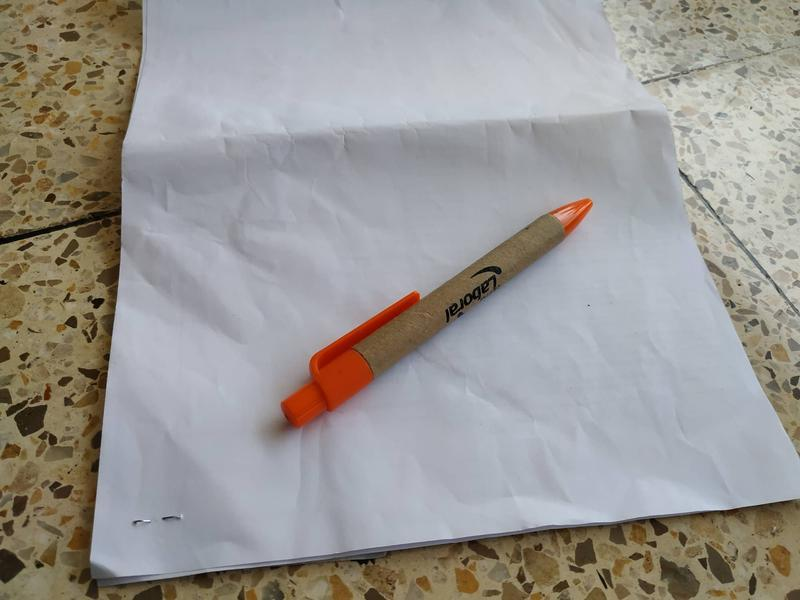qillqana: (270, 189, 605, 442)
